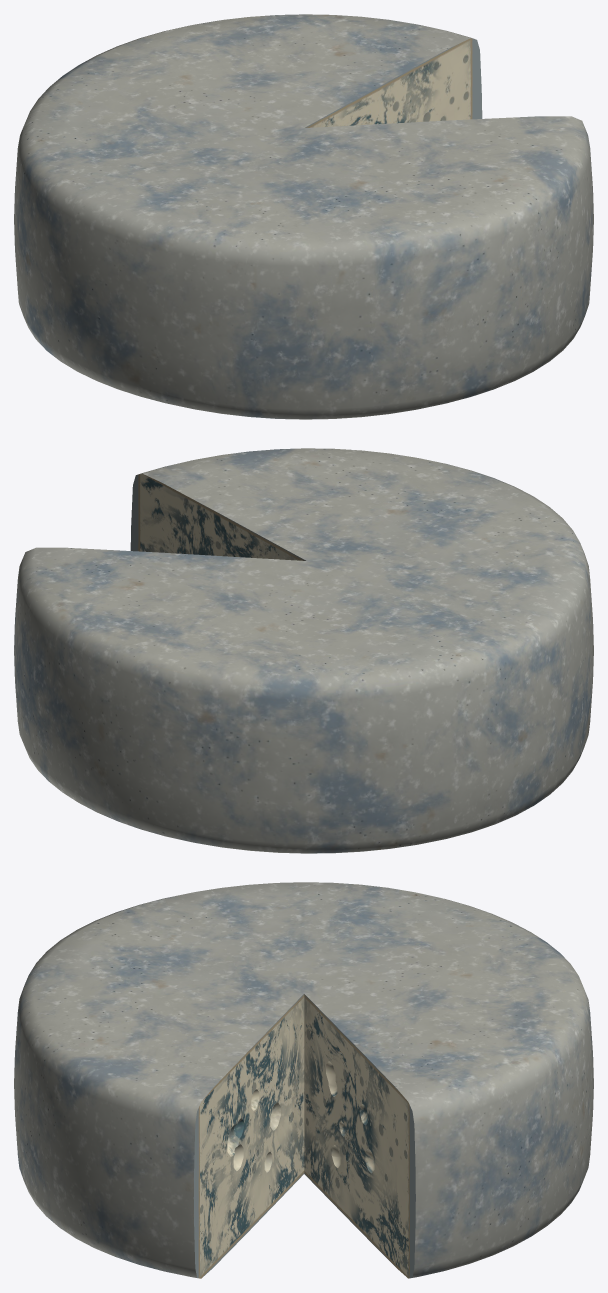
Rendered from SM_FlagCheese_Bleu.glb.
3 views of the same model, one above another, from view 1: azimuth 30°, elevation 25°; view 2: azimuth 150°, elevation 25°; view 3: azimuth 270°, elevation 25° (orthographic).
Visible parts, largest first — view 1: SM_FlagCheese_Bleu; view 2: SM_FlagCheese_Bleu; view 3: SM_FlagCheese_Bleu.
Part boxes in pixels (x1=…): SM_FlagCheese_Bleu: x1=14, y1=14, x2=593, y2=419; SM_FlagCheese_Bleu: x1=14, y1=448, x2=593, y2=853; SM_FlagCheese_Bleu: x1=14, y1=882, x2=593, y2=1278.
Size of the model in its own units: 1.17 by 0.42 by 1.21.
1 material, 1 textured.
